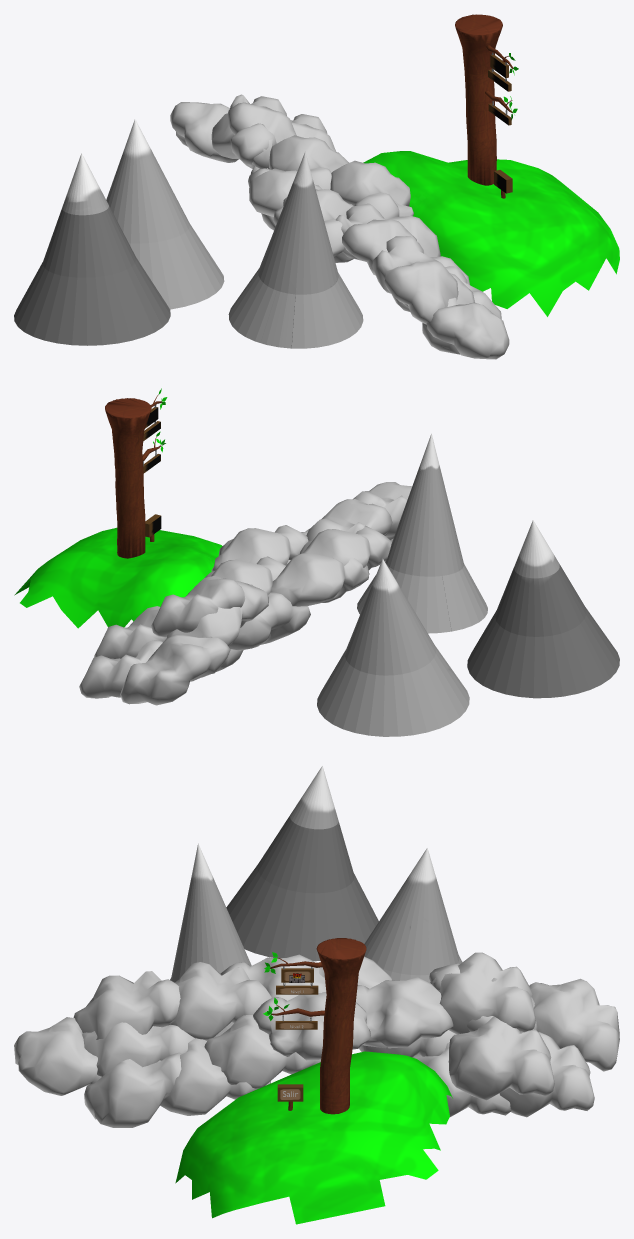
The model's file is pantalla de inicio completa corregida.fbx.
3 renders of one model, top to bottom at view 1: azimuth 30°, elevation 25°; view 2: azimuth 150°, elevation 25°; view 3: azimuth 270°, elevation 25°, orthographic. The views are drawn at different scales.
Visible parts, largest first — view 1: nubes, pasto, Cone.002, Cone, Cone.001, Tronco; view 2: nubes, Cone.001, Cone.002, pasto, Cone, Tronco; view 3: nubes, pasto, Cone.002, Cone.001, Tronco, Cone.
Boxes of the visible parts, <box> form: nubes: <box>170,94,509,359</box>; pasto: <box>363,151,619,316</box>; Cone.002: <box>14,153,170,345</box>; Cone: <box>228,152,363,348</box>; Cone.001: <box>106,119,224,309</box>; Tronco: <box>455,14,502,185</box>; nubes: <box>79,482,412,705</box>; Cone.001: <box>317,559,469,736</box>; Cone.002: <box>467,520,619,698</box>; pasto: <box>14,527,222,628</box>; Cone: <box>357,433,487,633</box>; Tronco: <box>105,398,151,558</box>; nubes: <box>14,952,619,1127</box>; pasto: <box>175,1051,452,1224</box>; Cone.002: <box>226,766,378,961</box>; Cone.001: <box>364,848,462,982</box>; Tronco: <box>316,938,366,1114</box>; Cone: <box>170,843,251,1040</box>.
Size of the model in its own units: 5404 by 2068 by 4712.
